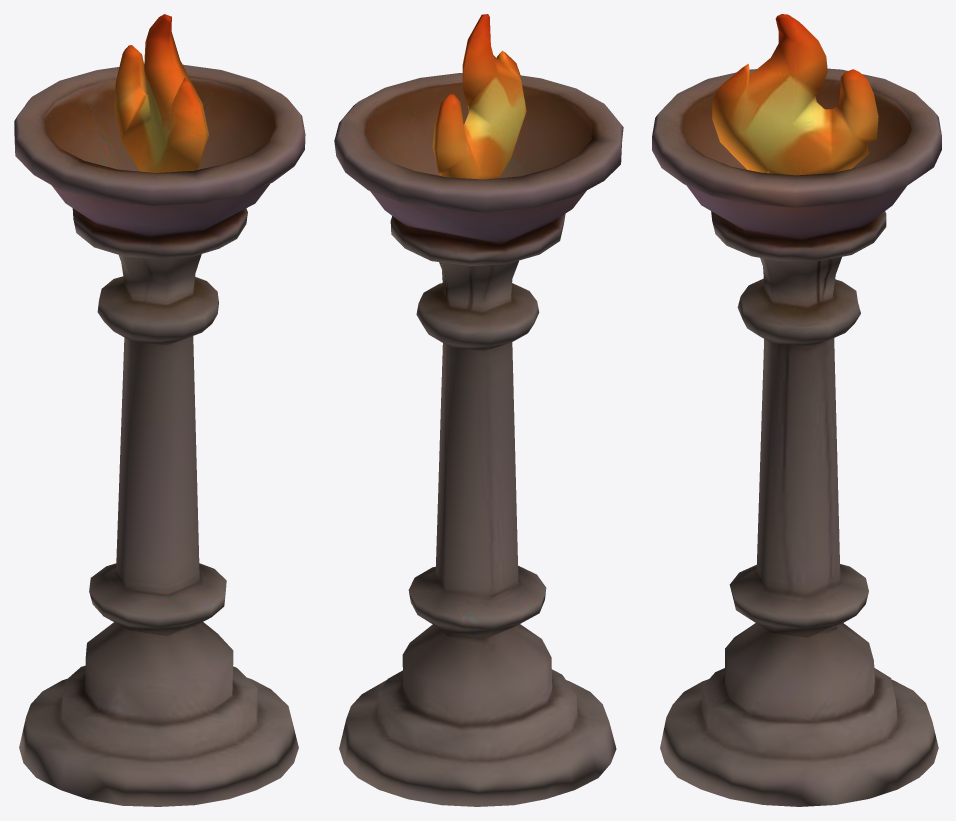
Rendered from brazier.glb.
3 renders of one model, left to right at view 1: azimuth 30°, elevation 25°; view 2: azimuth 150°, elevation 25°; view 3: azimuth 270°, elevation 25°, orthographic.
Visible parts, largest first — view 1: tripo_node_875aba0a-6cca-46cf-a0b1-44a76d5b6b2e; view 2: tripo_node_875aba0a-6cca-46cf-a0b1-44a76d5b6b2e; view 3: tripo_node_875aba0a-6cca-46cf-a0b1-44a76d5b6b2e.
Boxes of the visible parts, x1,y1,x2,y2 form: tripo_node_875aba0a-6cca-46cf-a0b1-44a76d5b6b2e: [14, 14, 305, 806]; tripo_node_875aba0a-6cca-46cf-a0b1-44a76d5b6b2e: [334, 14, 623, 806]; tripo_node_875aba0a-6cca-46cf-a0b1-44a76d5b6b2e: [652, 14, 941, 806].
Bounding box in the file's own units: 0.3613 × 0.998 × 0.3574.
Materials: 1 (1 with a texture image).
